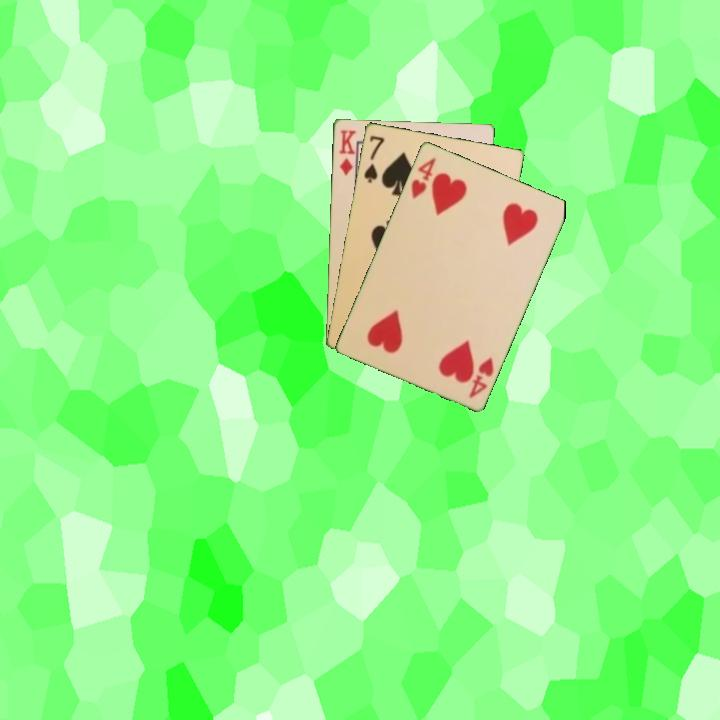4h: (407, 153, 439, 201), (465, 353, 496, 400)
7s: (360, 132, 387, 185)
Kd: (335, 126, 358, 178)
